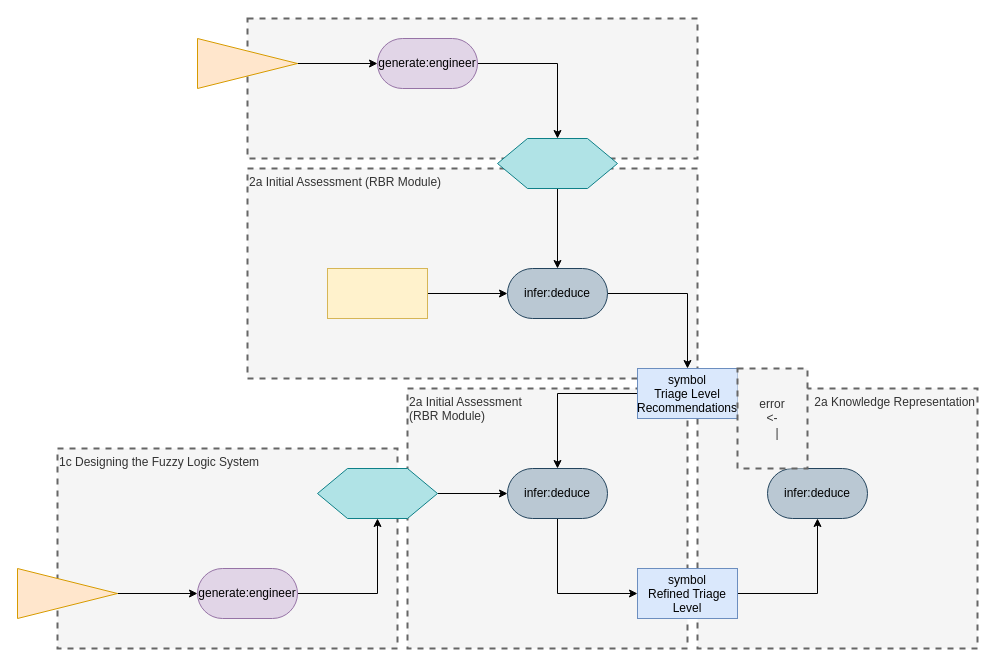
Some shapes in this 996 by 666 pixel diagram are drawn without their labels. The shapes that lost their labels are listed below. From the top down, each one's box as (x1, y1, x2, y2) in pixels, then its label:
(196, 38, 298, 88): actor Clinicians
(246, 17, 698, 159): 1c Rule Formation
(496, 138, 618, 188): model:semantic RBR Module
(326, 268, 428, 318): data Patient Measurements
(316, 468, 438, 518): model:semantic FLC
(16, 568, 118, 618): actor Experts
